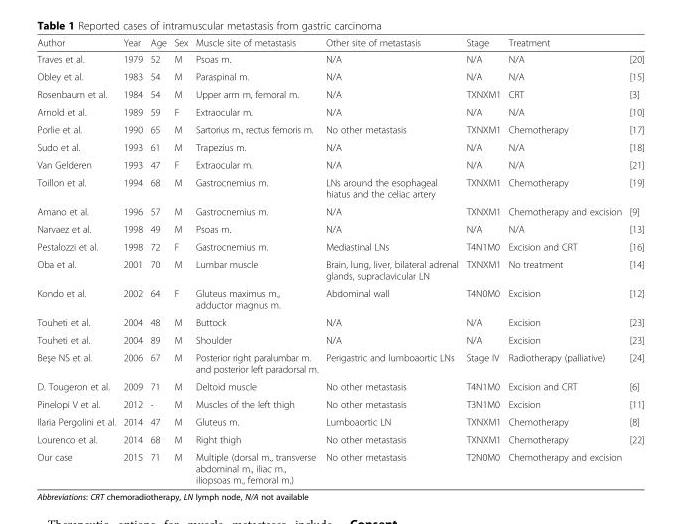table: (36, 36, 643, 485)
table column: (321, 36, 461, 485), (191, 36, 321, 485), (504, 36, 624, 485), (36, 36, 118, 485), (461, 36, 504, 485), (118, 36, 145, 485), (145, 36, 169, 485), (169, 36, 191, 485), (624, 36, 643, 485)
table column header: (36, 36, 643, 50)
table row: (36, 447, 643, 485), (36, 347, 643, 377), (36, 173, 643, 202), (36, 255, 643, 284), (36, 284, 643, 313), (36, 67, 643, 85), (36, 102, 643, 120), (36, 120, 643, 138), (36, 155, 643, 173), (36, 219, 643, 237), (36, 237, 643, 255), (36, 377, 643, 395), (36, 412, 643, 430), (36, 50, 643, 67), (36, 85, 643, 102), (36, 138, 643, 155), (36, 202, 643, 219), (36, 313, 643, 330), (36, 330, 643, 347), (36, 395, 643, 412), (36, 430, 643, 447), (36, 36, 643, 50)
